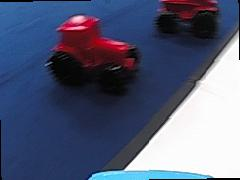Tracktor: (46, 13, 144, 90), (152, 0, 220, 37)
